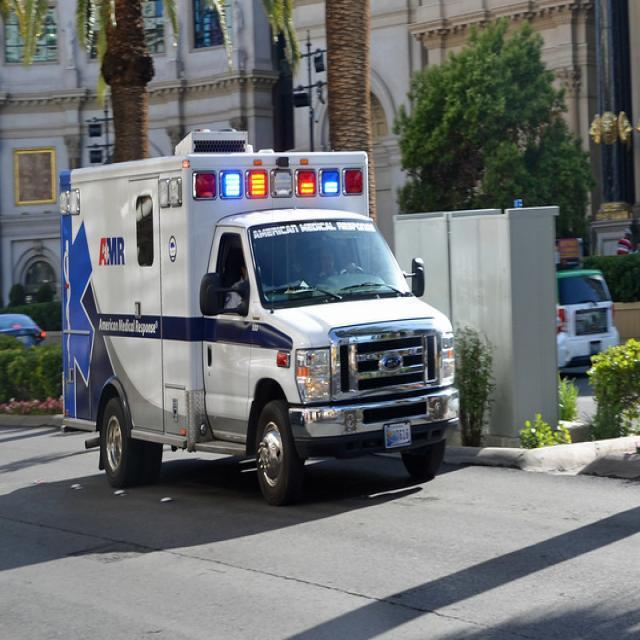emergency: (189, 138, 455, 510)
